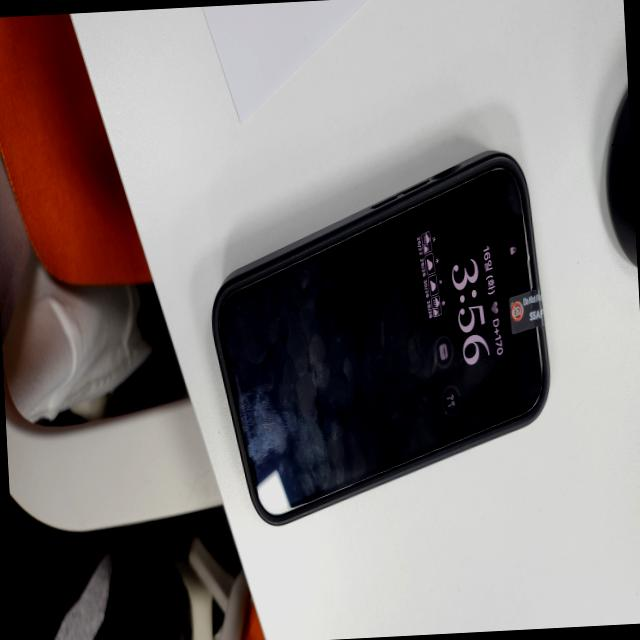phone: (203, 152, 558, 526)
sticker: (507, 287, 545, 335)
